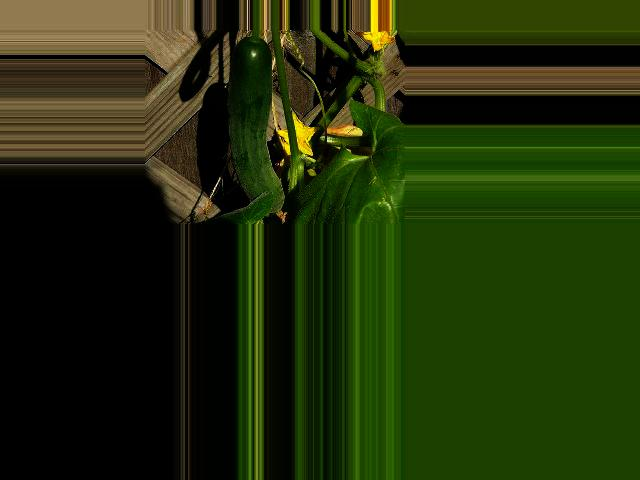cucumber: (227, 38, 284, 223)
